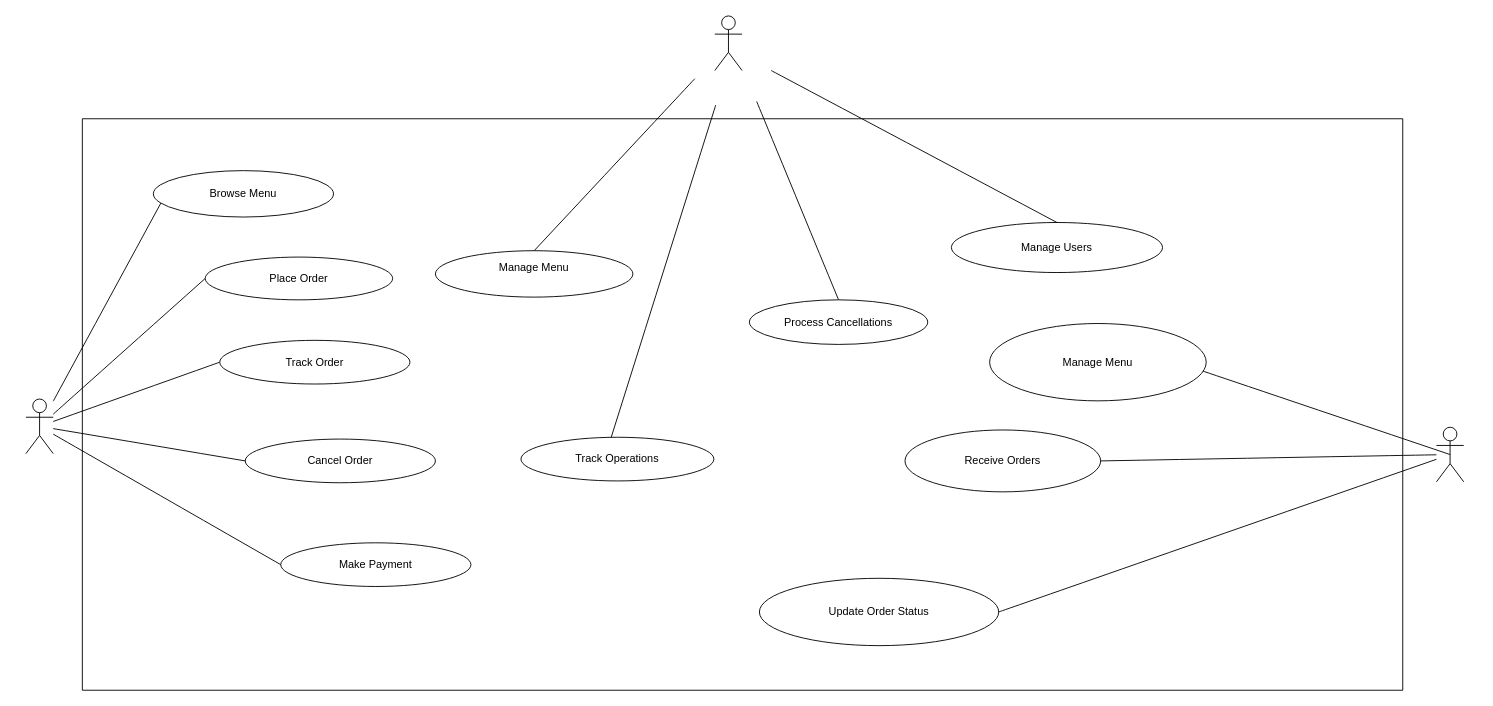
Some shapes in this 1493 by 706 pixel diagram are drawn without their labels. Here are the shapes that lost their labels. From the top down, the centre of each, then its label:
point (728, 43): Admin
point (39, 426): Customer
point (1450, 454): Restaurant
